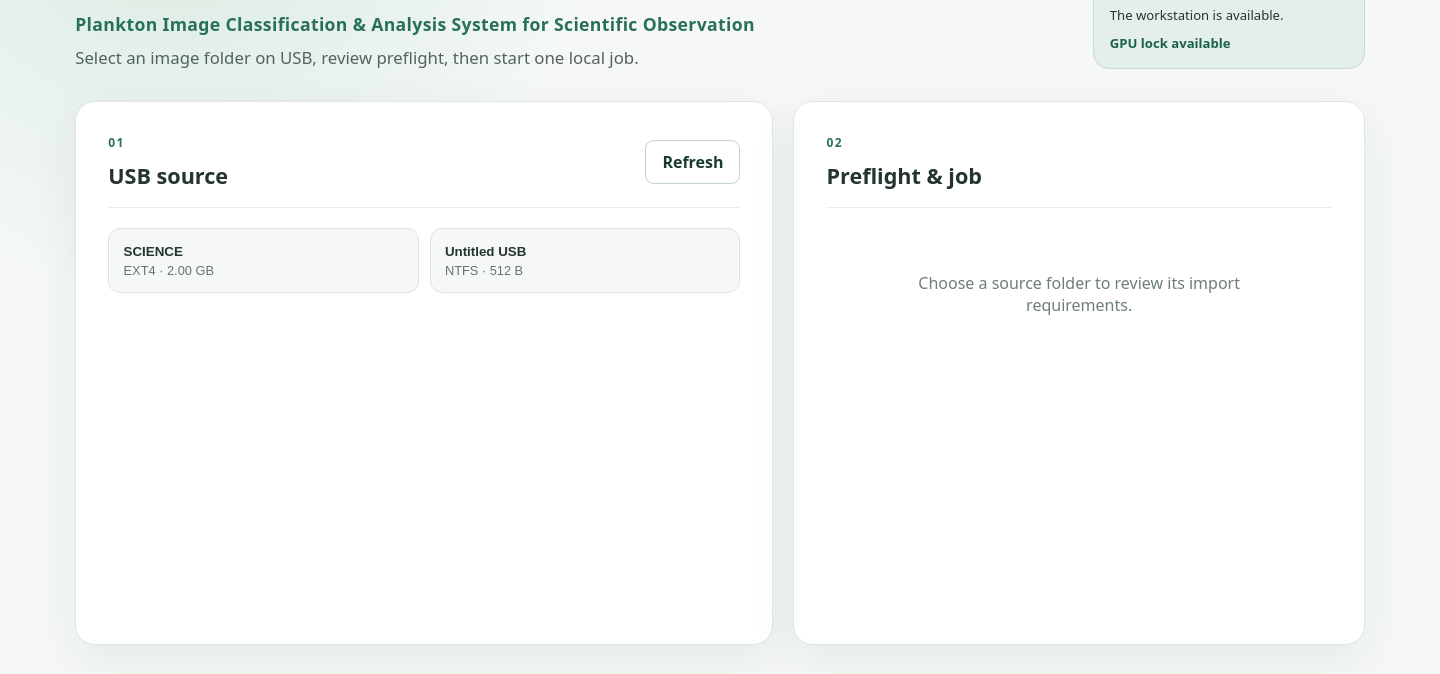
Scenario: lost successful job POST response recovers the durable job without another POST
(page scrolled)
Click the button "SCIENCE EXT4 · 2.00 GB" at (153, 251), box left=108, top=228, right=419, bottom=293
(page scrolled)
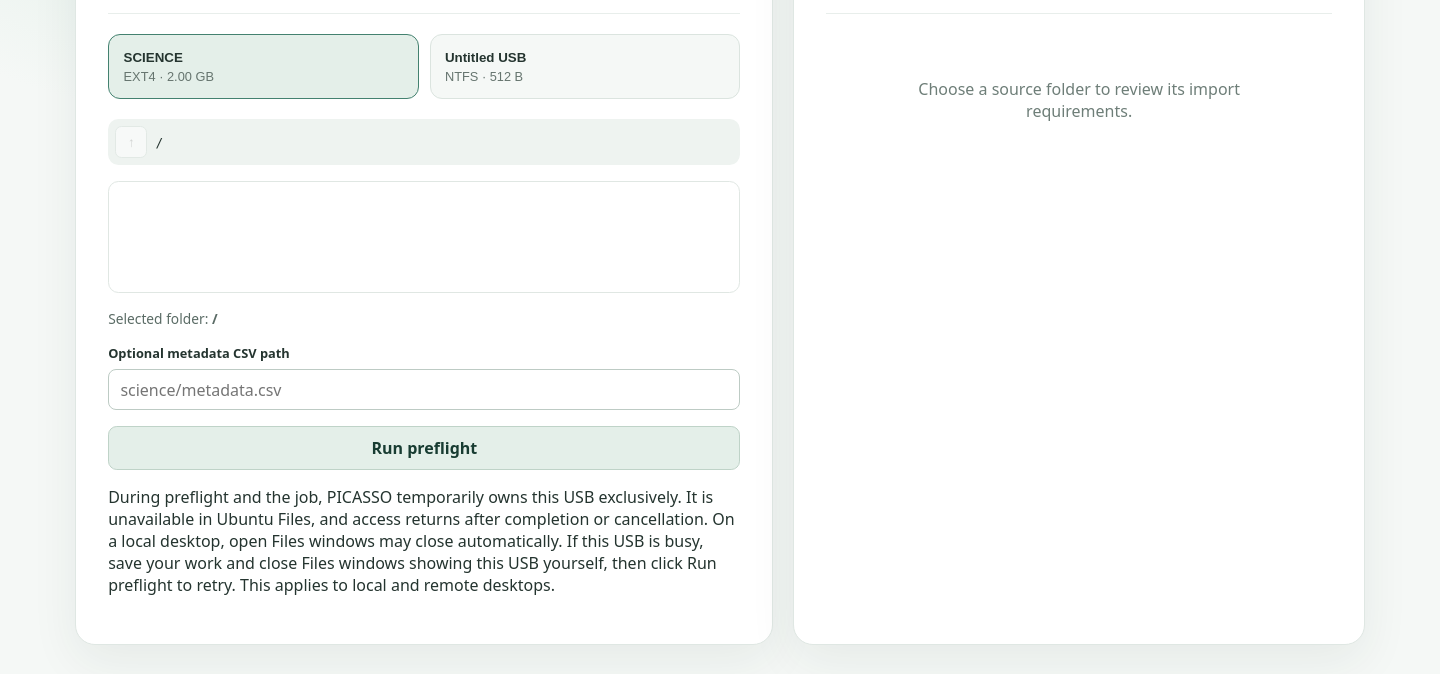
Click the button "Run preflight" at (424, 448), box left=108, top=426, right=740, bottom=470
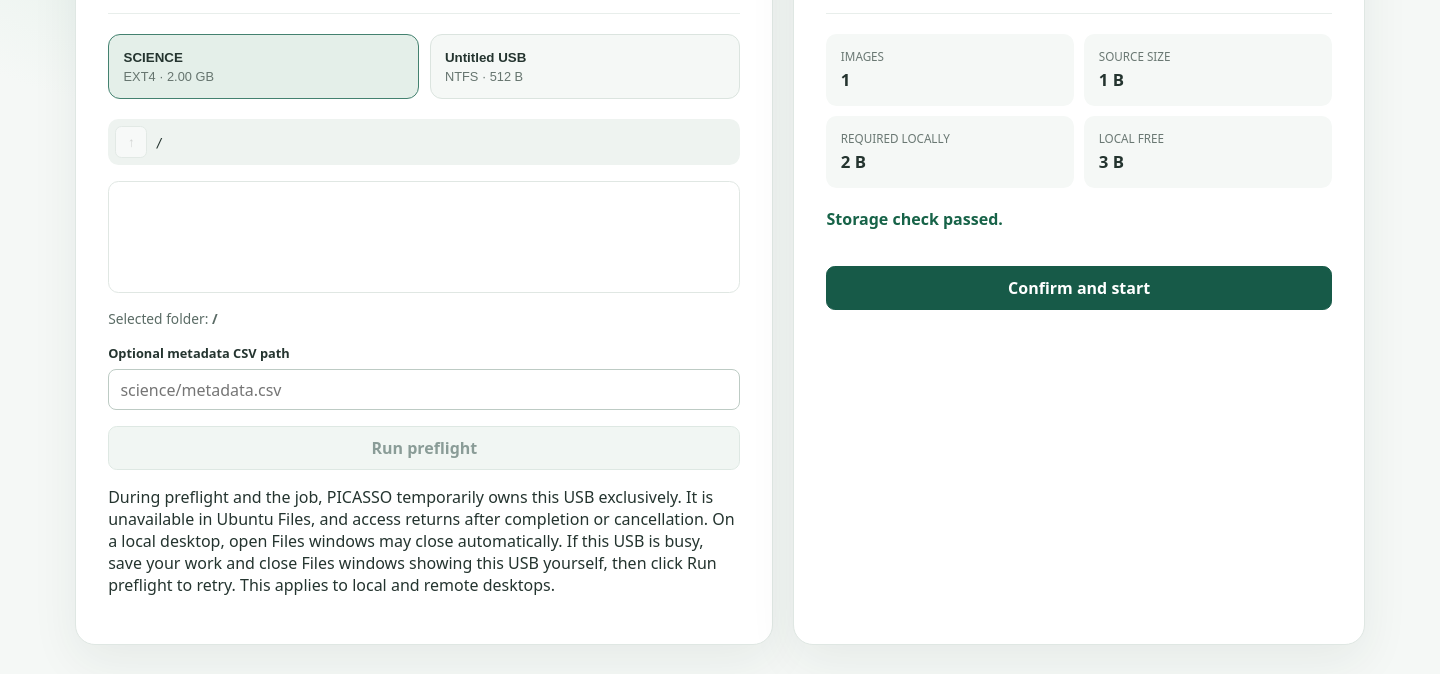
Click the button "Confirm and start" at (1079, 288), box left=826, top=266, right=1332, bottom=310
(page scrolled)
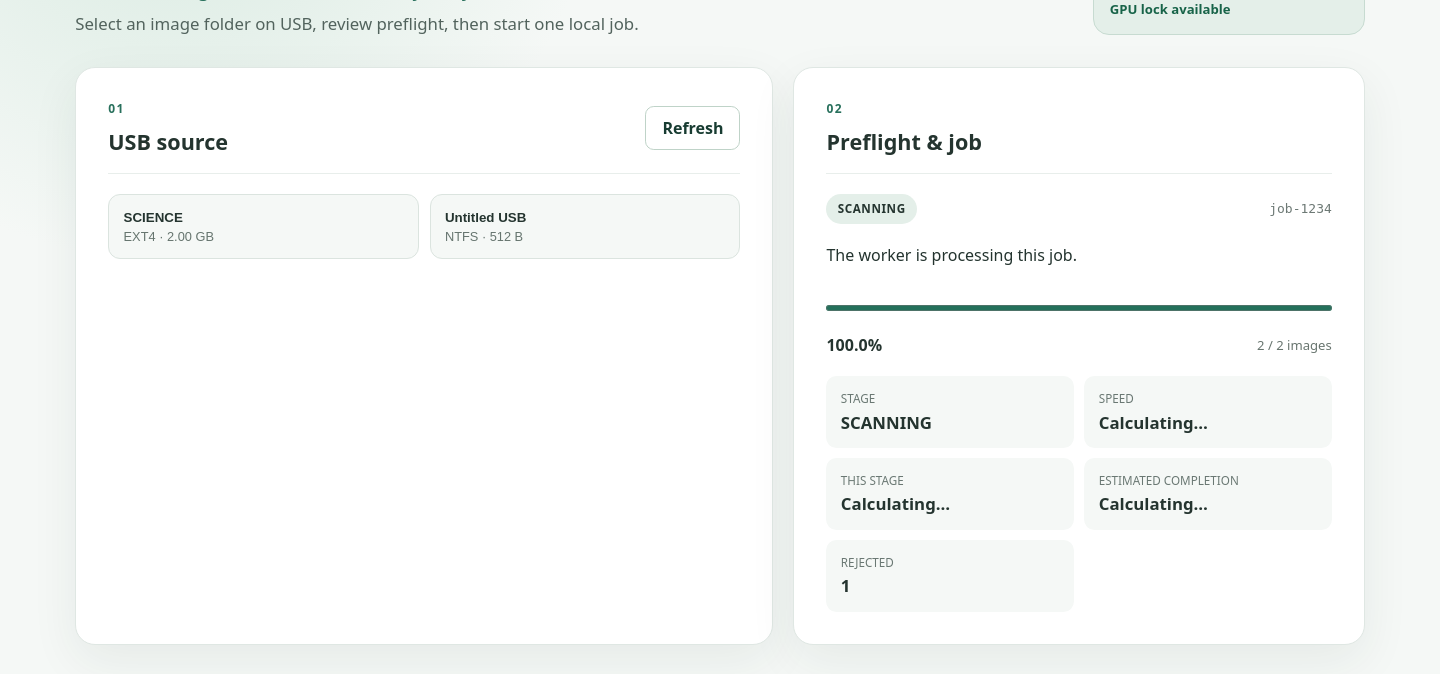
Now the text "SCANNING" is shown 2 times, box left=826, top=194, right=917, bottom=224; left=841, top=410, right=932, bottom=434
Now the text "Calculating…" below "Speed" is shown, box left=1099, top=410, right=1208, bottom=434
